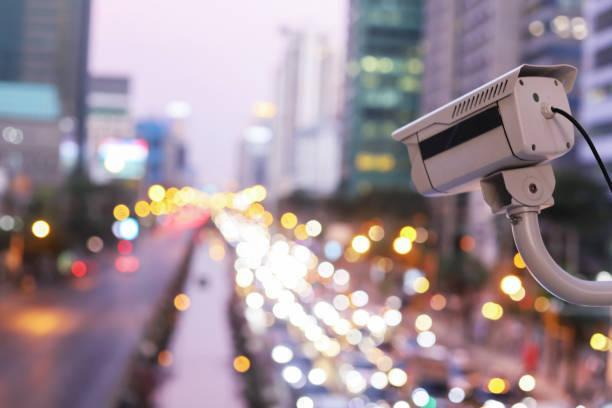camera: (362, 45, 598, 218)
